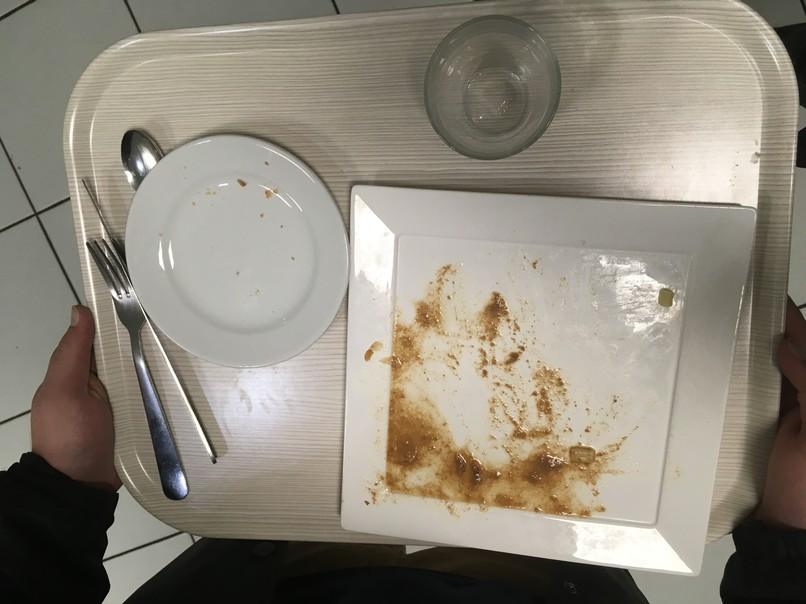cup: (408, 8, 573, 175)
cutlery: (77, 175, 230, 470), (81, 238, 188, 510), (110, 125, 171, 198)
orga: (396, 417, 524, 509)
